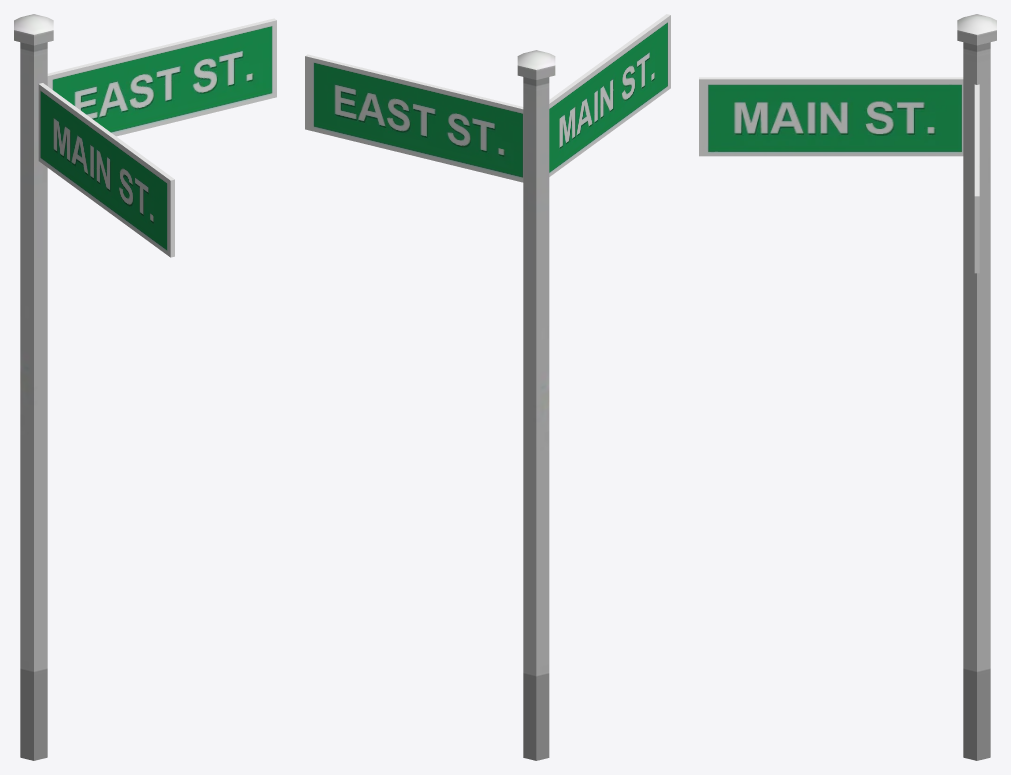
The model's file is city_sign_post.glb.
The picture shows the model from 3 angles, left to right: view 1: azimuth 30°, elevation 25°; view 2: azimuth 150°, elevation 25°; view 3: azimuth 270°, elevation 25°; orthographic projection. The views are drawn at different scales.
Visible parts, largest first — view 1: city:polySurface312; view 2: city:polySurface312; view 3: city:polySurface312.
Part boxes in pixels (left/top/right/bottom): city:polySurface312: left=14, top=14, right=276, bottom=760; city:polySurface312: left=305, top=14, right=670, bottom=760; city:polySurface312: left=699, top=14, right=996, bottom=760.
Bounding box in the file's own units: 1.08 × 2.92 × 1.07.
Materials: 1 (1 with a texture image).
